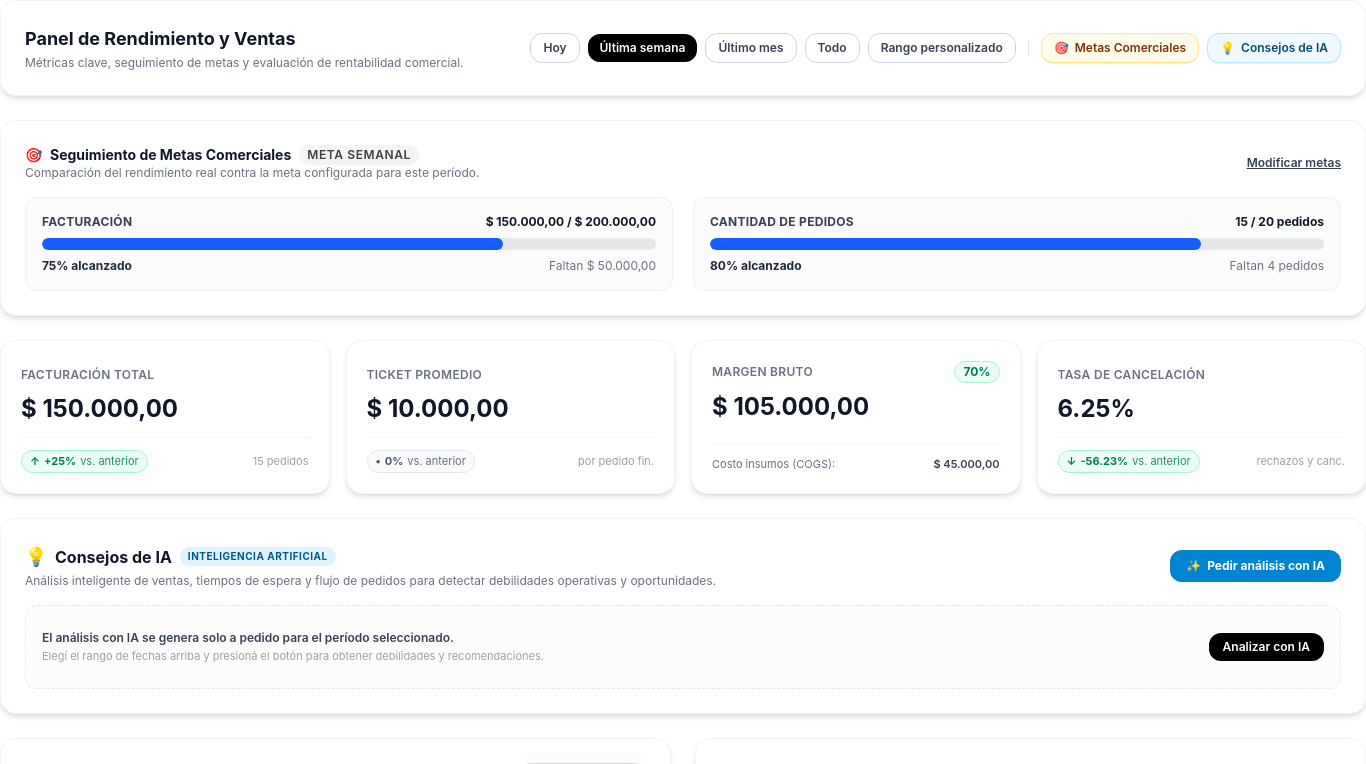
Test: Dashboard de Métricas, Metas y Asistente IA › US-46: Análisis del negocio y recomendaciones con Inteligencia Artificial › el análisis se genera a pedido del administrador y presenta debilidades operativas y recomendaciones concretas
Check: the text "El análisis con IA se genera solo a pedido para el período seleccionado" is shown, box left=42, top=630, right=454, bottom=644
Note: Pedir análisis con IA
Click the button "Analizar con IA". click: (1266,647)
box: left=1209, top=633, right=1324, bottom=661
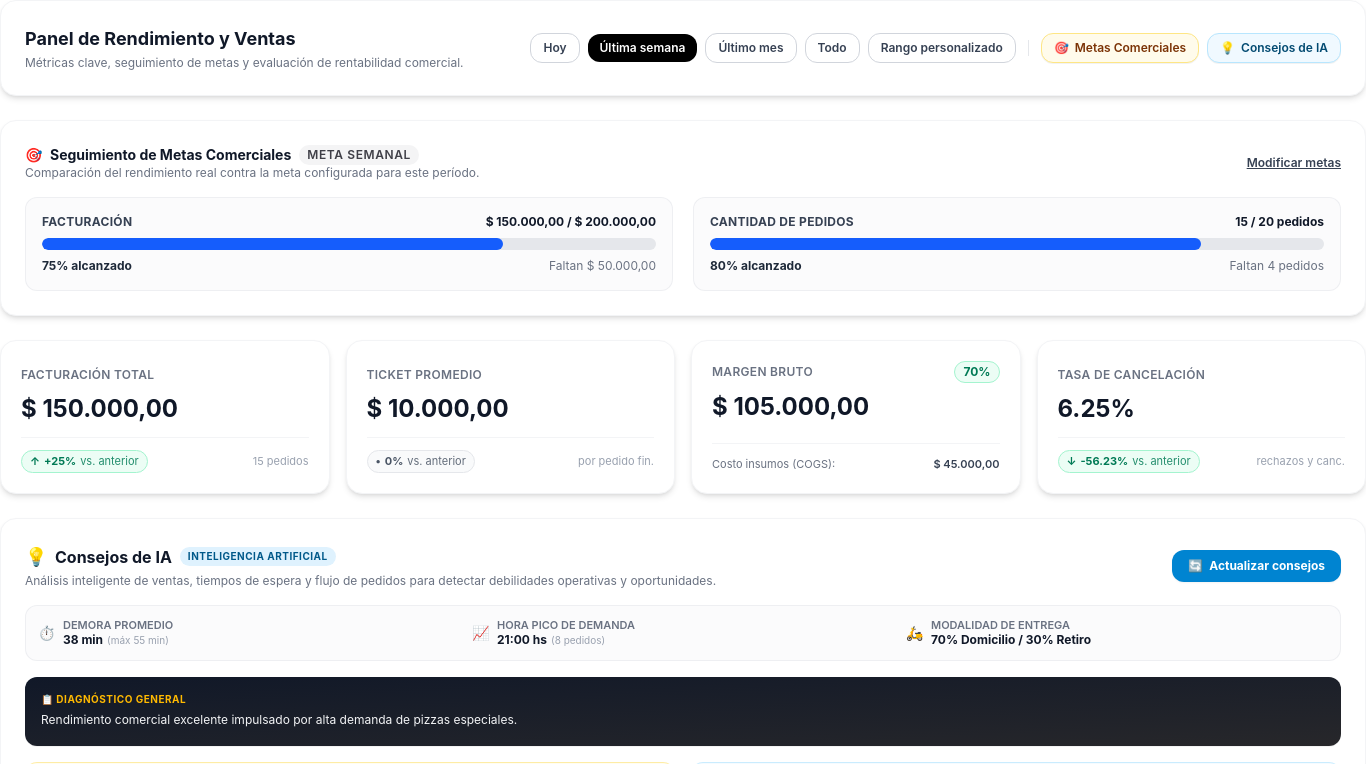
Check: the text "Rendimiento comercial excelente impulsado por alta demanda de pizzas especiales." is shown, box left=41, top=712, right=517, bottom=728
Check: the text "38 min" is shown, box left=63, top=632, right=103, bottom=647
Check: the text "21:00 hs" is shown, box left=497, top=632, right=547, bottom=647
